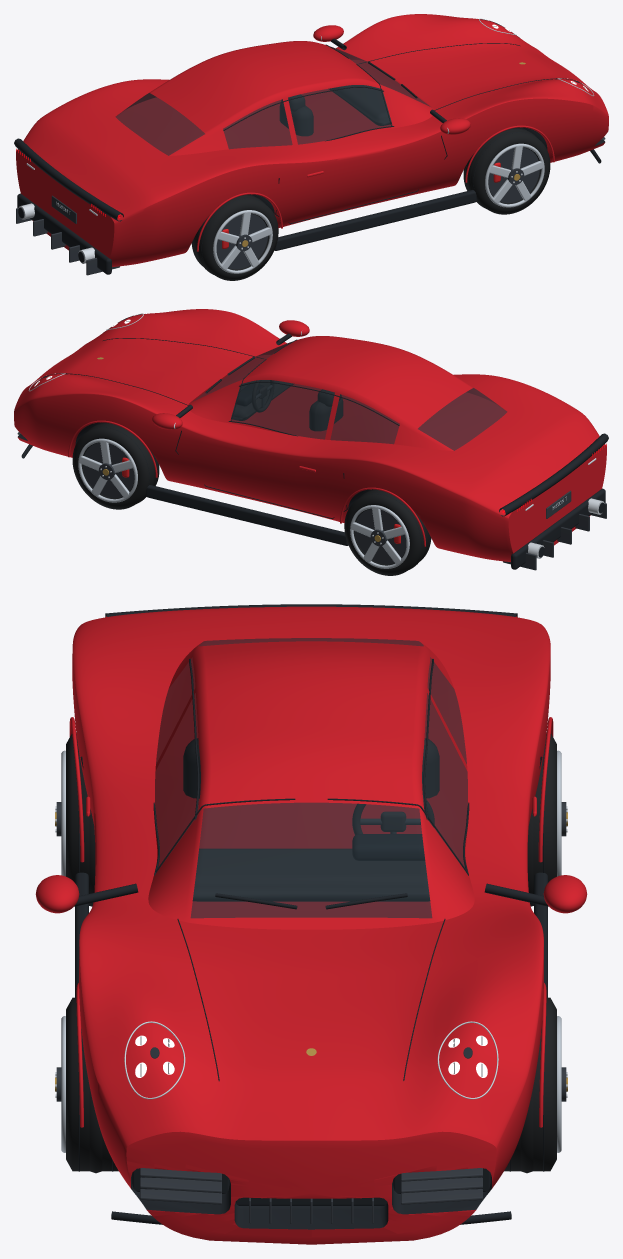
Rendered from 911-carrera.glb.
3 views of the same model, one above another, from view 1: azimuth 30°, elevation 25°; view 2: azimuth 150°, elevation 25°; view 3: azimuth 270°, elevation 25° (orthographic). The views are drawn at different scales.
Parts seen in each view (by area): view 1: 911-carrera • body details.010, wheel_FR.045, wheel_RR.045; view 2: 911-carrera • body details.010, wheel_FL.045, wheel_RL.045, steering_wheel.013; view 3: 911-carrera • body details.010, wheel_FL.045, wheel_FR.045, wheel_RR.045, wheel_RL.045, steering_wheel.013.
Boxes of the visible parts, bbox=[...] form: 911-carrera • body details.010: bbox=[14, 14, 608, 275]; wheel_FR.045: bbox=[463, 127, 550, 214]; wheel_RR.045: bbox=[191, 194, 278, 280]; 911-carrera • body details.010: bbox=[14, 309, 608, 570]; wheel_FL.045: bbox=[72, 422, 159, 509]; wheel_RL.045: bbox=[344, 489, 431, 575]; steering_wheel.013: bbox=[252, 380, 273, 412]; 911-carrera • body details.010: bbox=[35, 604, 587, 1244]; wheel_FL.045: bbox=[504, 997, 567, 1173]; wheel_FR.045: bbox=[55, 997, 118, 1173]; wheel_RR.045: bbox=[55, 732, 95, 906]; wheel_RL.045: bbox=[527, 732, 567, 906]; steering_wheel.013: bbox=[352, 796, 434, 834].
Size of the model in its own units: 4.69 by 1.3 by 2.15.
